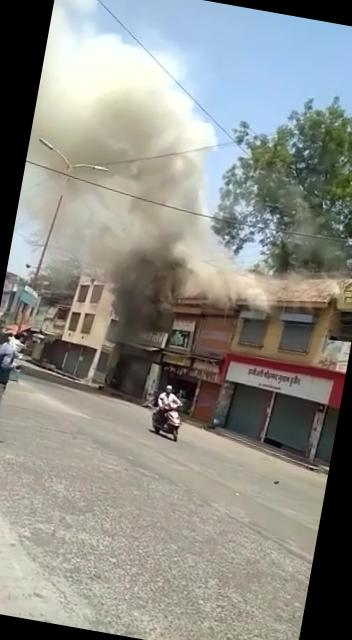Smoke: (0, 0, 321, 409)
